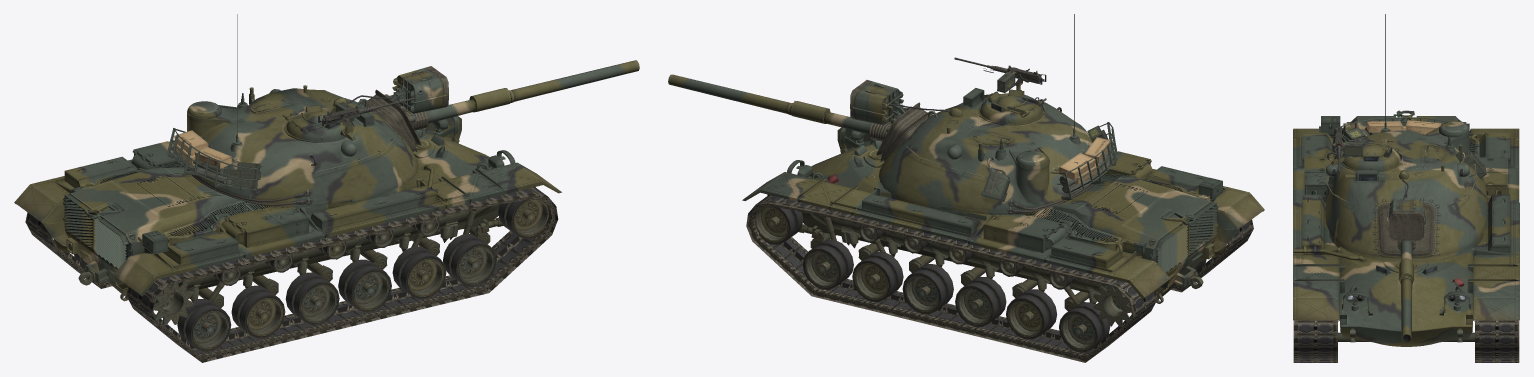
3 views of the same model, side by side, from view 1: azimuth 30°, elevation 25°; view 2: azimuth 150°, elevation 25°; view 3: azimuth 270°, elevation 25° (orthographic). The views are drawn at different scales.
Parts seen in each view (by area): view 1: hull, turret, track, mudguard, object11_m48a5-hull_0_0, backfilters, suspension, weapon, backbox, wheel59, wheel55, wheel57 (+16 smaller); view 2: turret, hull, track2, mudguard, object11_m48a5-hull_0_0, backfilters, suspension, weapon, backbox, wheel64, wheel67, wheel68 (+16 smaller); view 3: turret, mudguard, hull, object11_m48a5-hull_0_0, track2, track, backfilters, backbox, spotlight, weapon, mount, small mg turret (+11 smaller).
Boxes of the visible parts, x1,y1,x2,y2 form: hull: [54, 130, 499, 301]; turret: [184, 85, 418, 207]; track: [126, 187, 558, 362]; mudguard: [71, 95, 561, 244]; object11_m48a5-hull_0_0: [14, 159, 325, 296]; backfilters: [131, 141, 308, 247]; suspension: [186, 208, 503, 307]; weapon: [426, 60, 639, 123]; backbox: [64, 156, 238, 264]; wheel59: [338, 259, 391, 312]; wheel55: [231, 285, 285, 338]; wheel57: [392, 246, 446, 298]; turret: [879, 88, 1102, 214]; hull: [802, 141, 1226, 303]; track2: [746, 195, 1157, 362]; mudguard: [742, 107, 1195, 253]; object11_m48a5-hull_0_0: [967, 169, 1264, 299]; backfilters: [983, 151, 1153, 252]; suspension: [798, 216, 1100, 311]; weapon: [668, 74, 871, 134]; backbox: [1051, 166, 1208, 268]; wheel64: [1006, 289, 1057, 339]; wheel67: [852, 251, 903, 301]; wheel68: [802, 239, 853, 289]; turret: [1325, 121, 1487, 258]; mudguard: [1293, 123, 1519, 324]; hull: [1329, 110, 1483, 346]; object11_m48a5-hull_0_0: [1293, 128, 1519, 202]; track2: [1475, 320, 1519, 362]; track: [1293, 320, 1337, 362]; backfilters: [1304, 155, 1507, 196]; backbox: [1302, 132, 1510, 165]; spotlight: [1386, 200, 1426, 240]; weapon: [1399, 240, 1413, 342]; mount: [1380, 204, 1432, 253]; small mg turret: [1331, 138, 1400, 171].
Size of the model in its own units: 9.35 by 4.64 by 3.65.
Materials: 8 (8 with a texture image).
